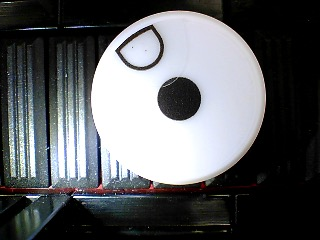BOHOMIPO1: (90, 11, 266, 185)
